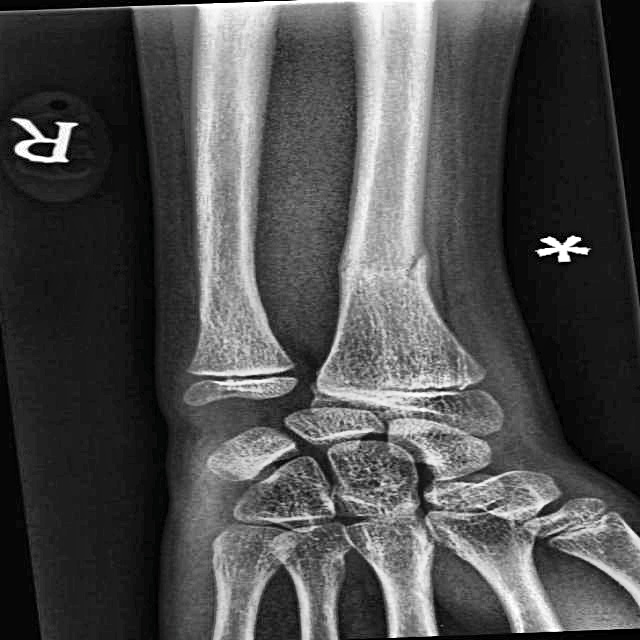Greenstick: (344, 228, 466, 307)
